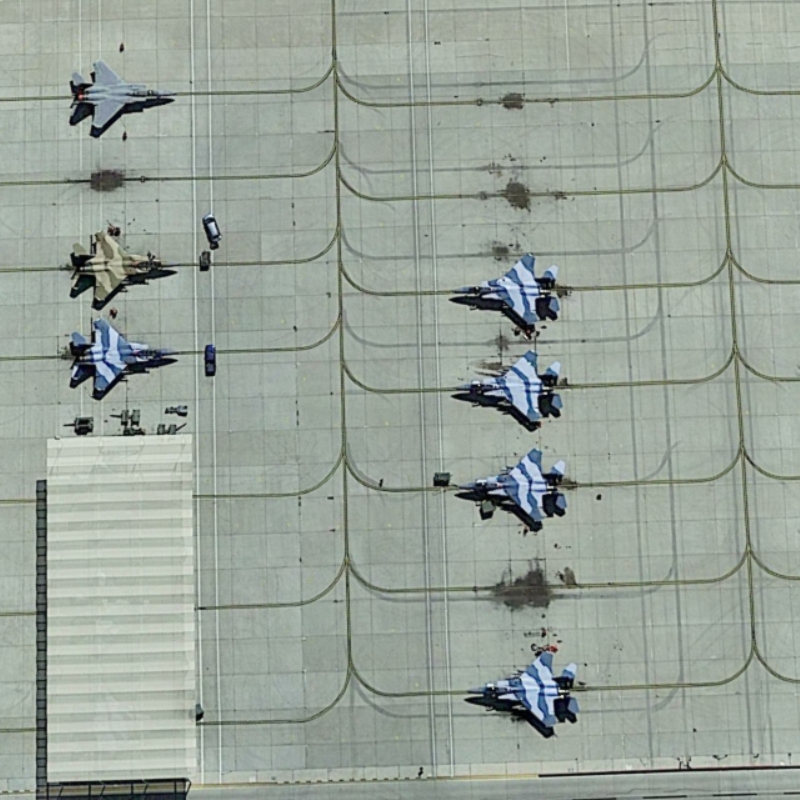A13: (443, 231, 574, 344), (456, 639, 590, 742), (437, 445, 576, 533), (59, 216, 182, 313), (443, 346, 575, 436), (61, 315, 182, 404), (65, 51, 179, 143)
